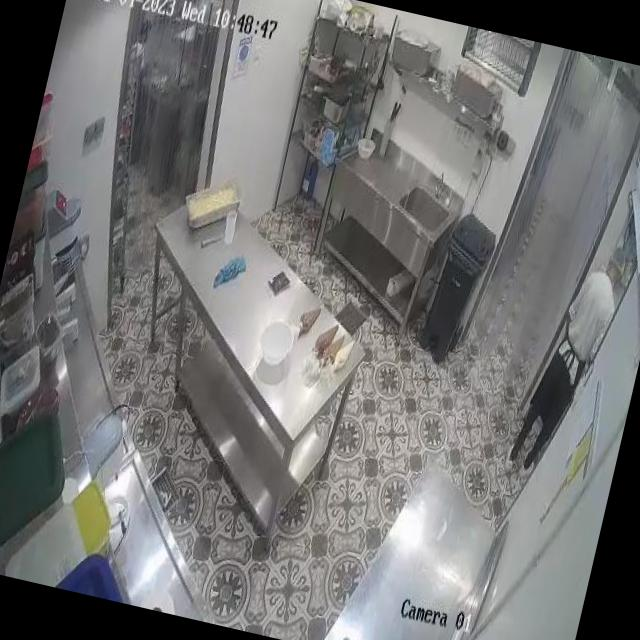hairnet: (608, 244, 629, 275)
